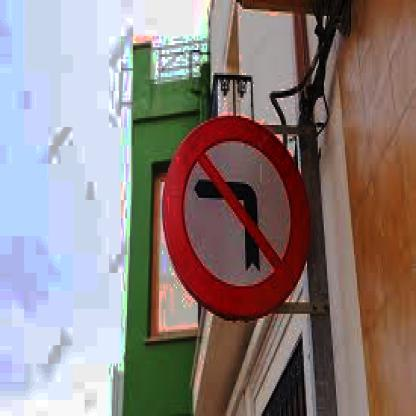No left turn: (159, 109, 317, 322)
